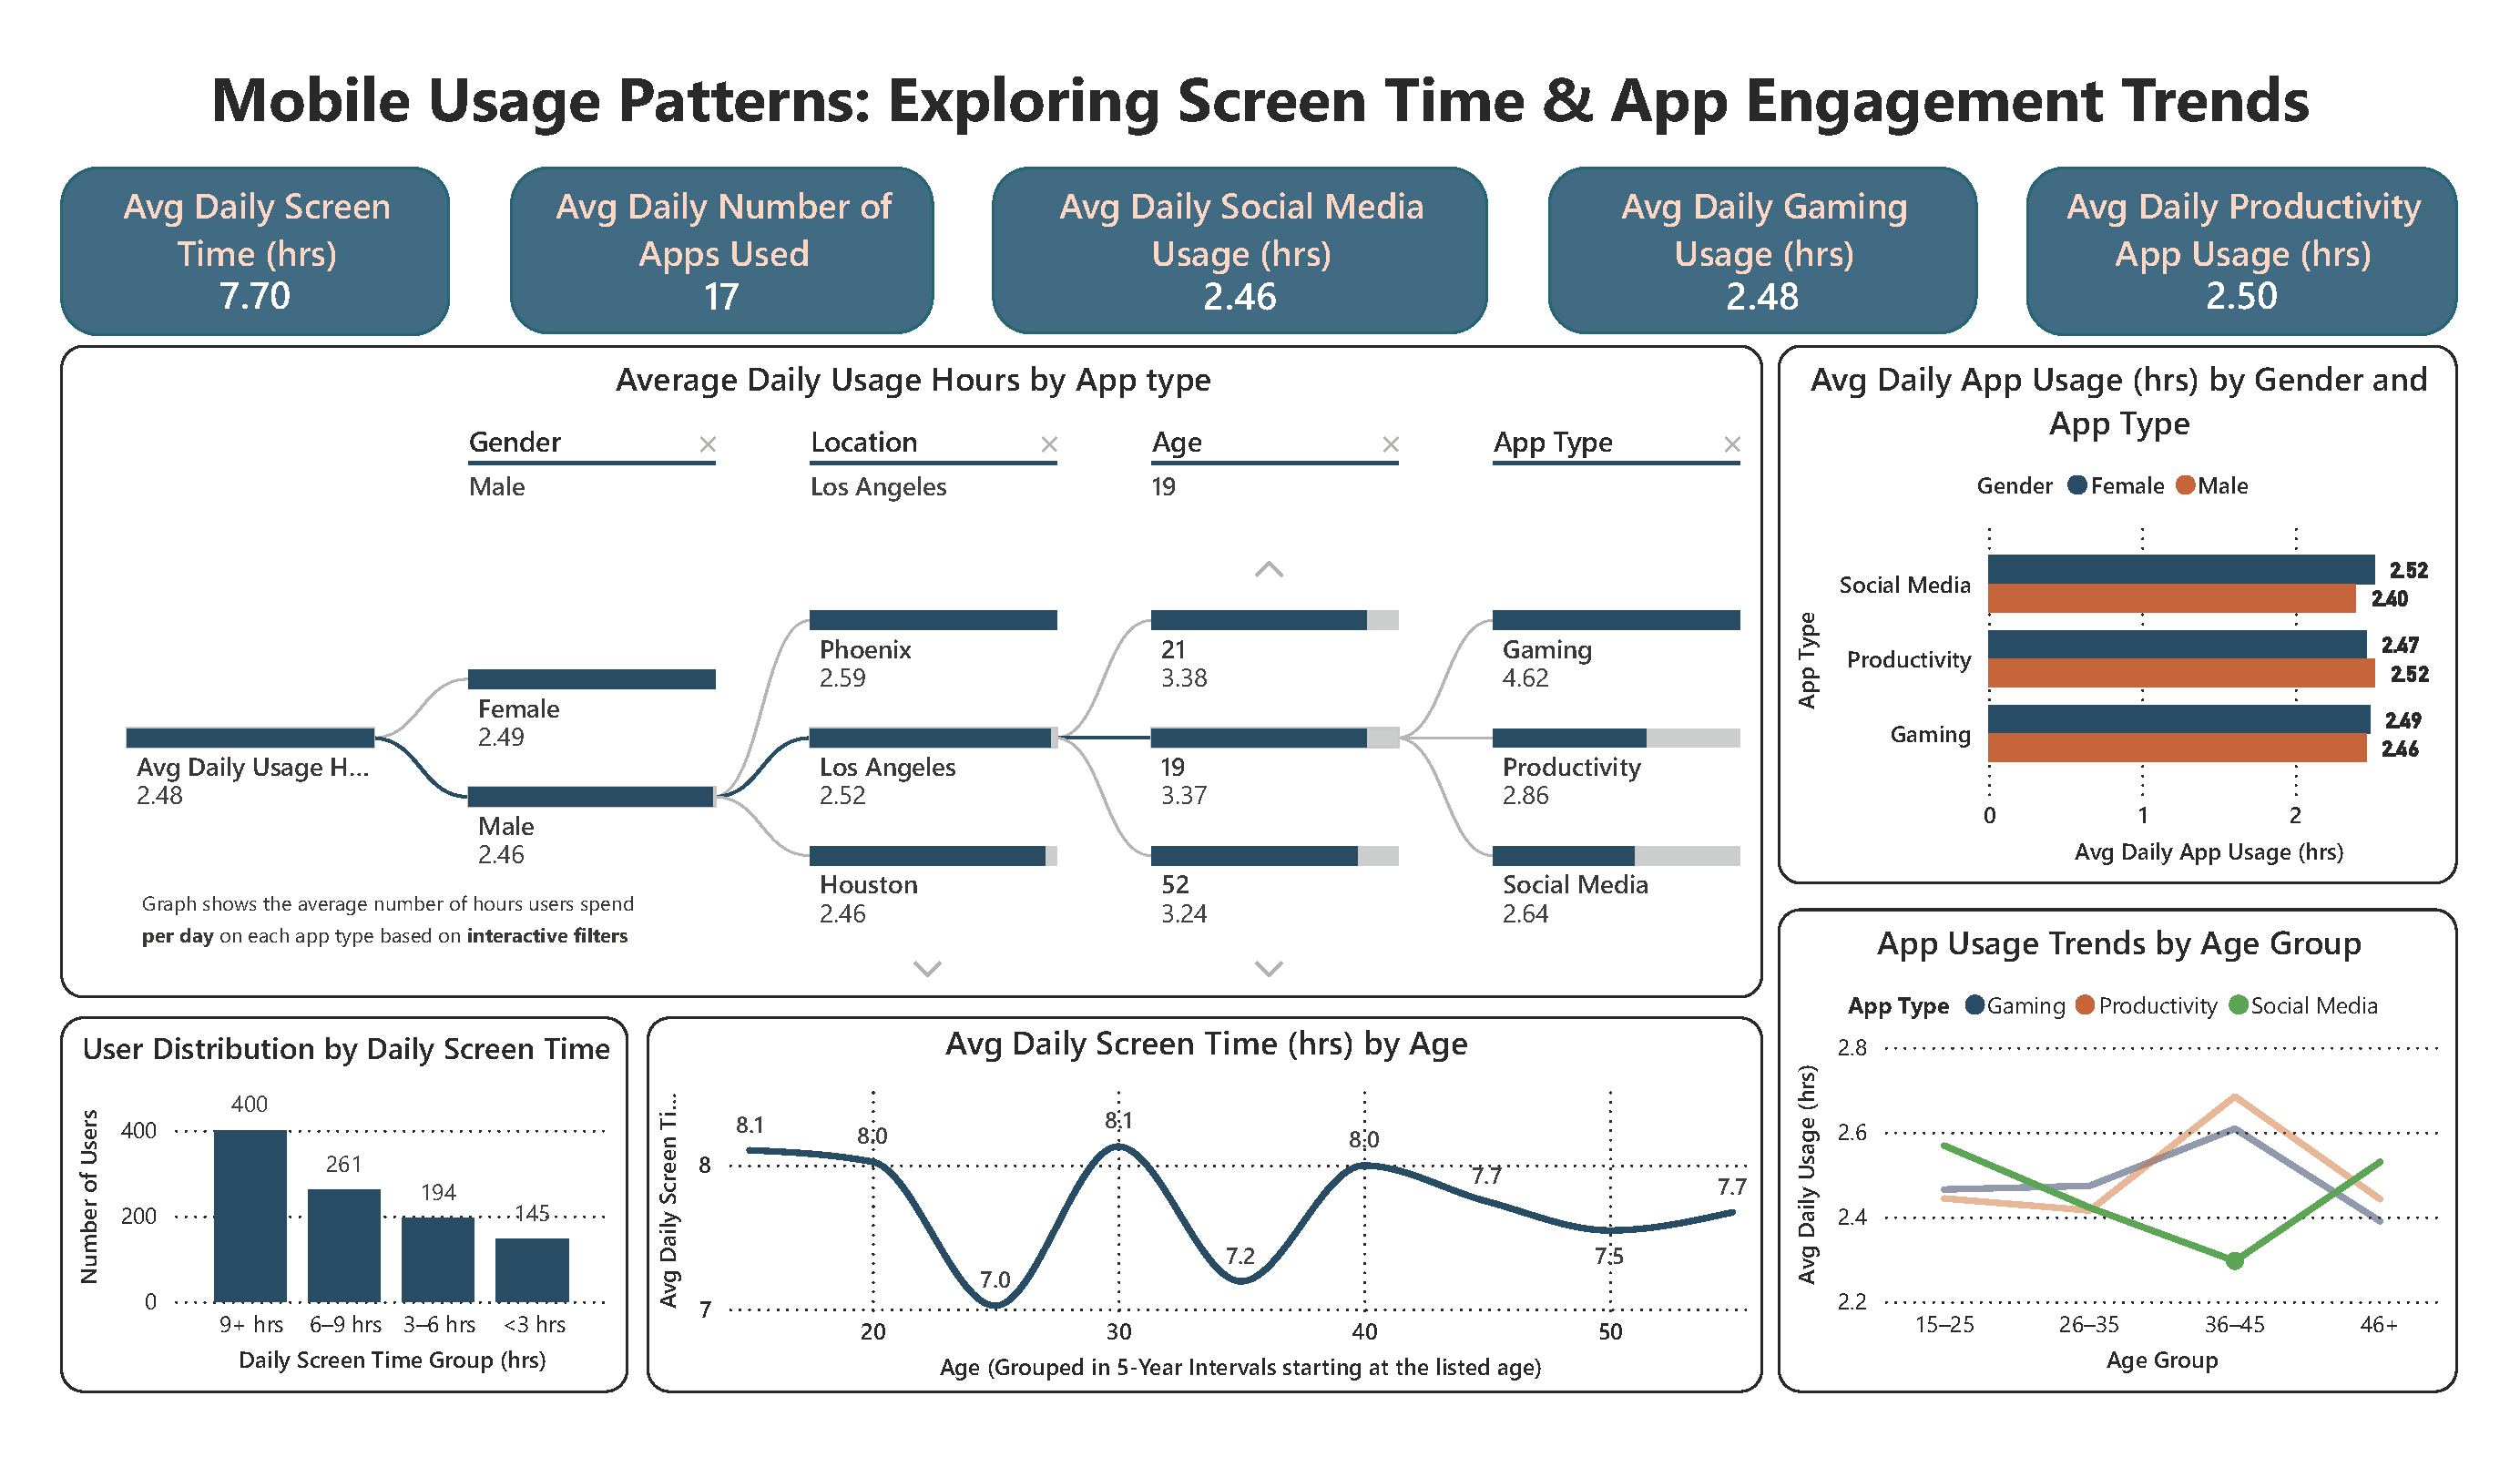

The dashboard page shown, as its layout file describes it:
{"tool":"powerbi","page":{"name":"Page 1","canvas":[1280,720],"ordinal":0},"visuals":[{"type":"textbox","box":[0,0,1280,75.8],"z":0},{"type":"decompositionTreeVisual","title":"Average Daily Usage Hours by App type","fields":{"ExplainBy":["mobile_usage_behavioral_analysis.Gender","mobile_usage_behavioral_analysis.Location","mobile_usage_behavioral_analysis.Age","App_Usage_By_Type.App_Usage_Type"],"Analyze":["App_Usage_By_Type.Avg Daily Usage Hours by App Type"]},"box":[8.1,157.6,897.3,343.9],"z":0,"group":"g1"},{"type":"card","title":"Avg Daily Screen Time (hrs)","fields":{"Values":["Avg(mobile_usage_behavioral_analysis.Daily_Screen_Time_Hours)"]},"box":[8.1,63.6,205.1,89],"z":1000},{"type":"card","title":"Avg Daily Number of Apps Used","fields":{"Values":["Avg(mobile_usage_behavioral_analysis.Number_of_Apps_Used)"]},"box":[245.4,63.6,223,88.7],"z":2000},{"type":"card","title":"Avg Daily Social Media Usage (hrs)","fields":{"Values":["Avg(mobile_usage_behavioral_analysis.Social_Media_Usage_Hours)"]},"box":[499,63.6,260.6,88.7],"z":3000},{"type":"card","title":"Avg Daily Productivity App Usage (hrs)","fields":{"Values":["Avg(mobile_usage_behavioral_analysis.Productivity_App_Usage_Hours)"]},"box":[1044.2,63.6,226.6,89],"z":4000},{"type":"card","title":"Avg Daily Gaming Usage (hrs)","fields":{"Values":["Avg(mobile_usage_behavioral_analysis.Gaming_App_Usage_Hours)"]},"box":[791.6,63.6,226.6,88.7],"z":5000},{"type":"lineChart","title":"Avg Daily Screen Time (hrs) by Age","fields":{"Y":["Avg(mobile_usage_behavioral_analysis.Daily_Screen_Time_Hours)"],"Category":["mobile_usage_behavioral_analysis.Age (bins)"]},"box":[317,512.2,588.4,197.9],"z":6000},{"type":"clusteredColumnChart","title":"User Distribution by Daily Screen Time","fields":{"Category":["mobile_usage_behavioral_analysis.ScreenTimeGroup"],"Y":["CountNonNull(mobile_usage_behavioral_analysis.User_ID)"]},"box":[8.1,512.2,299.1,197.9],"z":7000},{"type":"clusteredBarChart","title":"Avg Daily App Usage (hrs) by Gender and App Type","fields":{"Category":["App_Usage_By_Type.App Type"],"Y":["Avg(App_Usage_By_Type.Usage_Hours)"],"Series":["GenderLookup.Gender"]},"box":[913.4,157.6,357.3,284.8],"z":8000},{"type":"lineChart","title":"App Usage Trends by Age Group","fields":{"Y":["Avg(App_Usage_By_Type.Usage_Hours)"],"Series":["App_Usage_By_Type.App Type"],"Category":["App_Usage_By_Type.Age_Group"]},"box":[913.4,454.9,357.3,255.2],"z":9000},{"type":"textbox","box":[45.9,436.5,281.6,61.4],"z":11000,"group":"g1"},{"type":"group","id":"g1","title":"Group 1","box":[8.1,157.6,897.3,343.9],"z":11001}]}

Visuals, with their boxes in screenshot pixels (x1, y1, x2, y2):
textbox: (left=59, top=46, right=2456, bottom=188)
"Average Daily Usage Hours by App type" decompositionTreeVisual: (left=75, top=341, right=1755, bottom=985)
"Avg Daily Screen Time (hrs)" card: (left=75, top=165, right=458, bottom=331)
"Avg Daily Number of Apps Used" card: (left=518, top=165, right=936, bottom=331)
"Avg Daily Social Media Usage (hrs)" card: (left=994, top=165, right=1482, bottom=331)
"Avg Daily Productivity App Usage (hrs)" card: (left=2015, top=165, right=2439, bottom=331)
"Avg Daily Gaming Usage (hrs)" card: (left=1542, top=165, right=1966, bottom=331)
"Avg Daily Screen Time (hrs) by Age" lineChart: (left=653, top=1005, right=1755, bottom=1376)
"User Distribution by Daily Screen Time" clusteredColumnChart: (left=75, top=1005, right=635, bottom=1376)
"Avg Daily App Usage (hrs) by Gender and App Type" clusteredBarChart: (left=1770, top=341, right=2439, bottom=874)
"App Usage Trends by Age Group" lineChart: (left=1770, top=898, right=2439, bottom=1376)
textbox: (left=145, top=863, right=672, bottom=978)
"Group 1" group: (left=75, top=341, right=1755, bottom=985)
